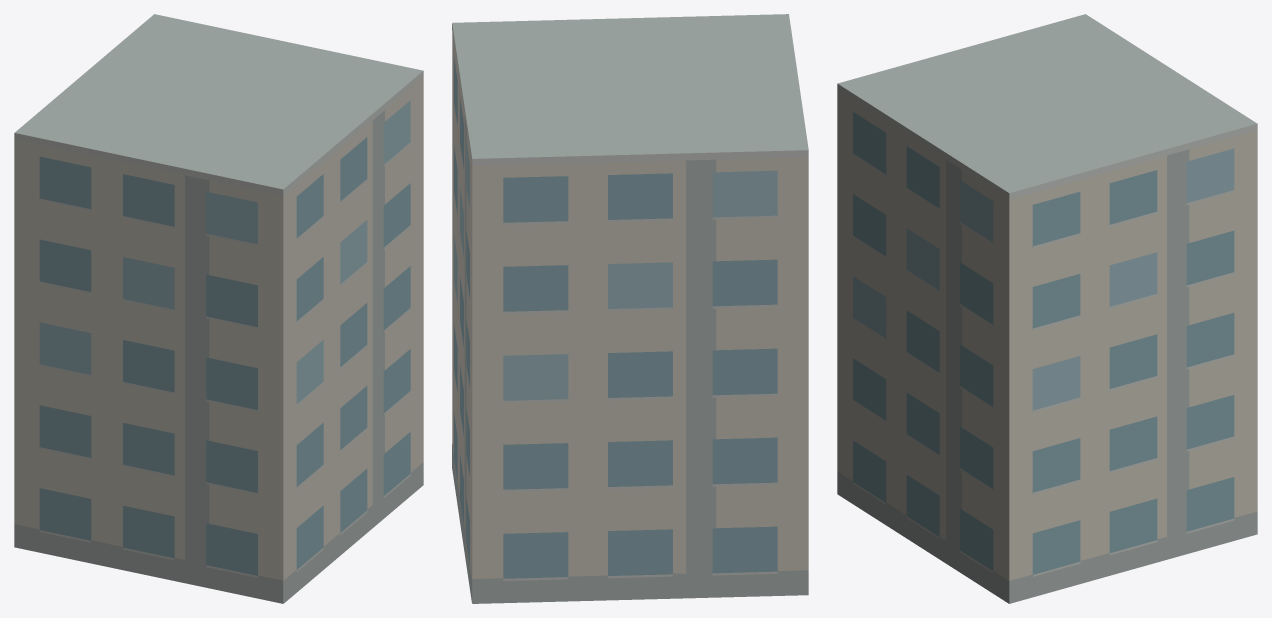
The model's file is residential-af64e3c6-0c84-4ee7-bb68-a069bfaa5516.glb.
3 renders of one model, left to right at view 1: azimuth 30°, elevation 25°; view 2: azimuth 150°, elevation 25°; view 3: azimuth 270°, elevation 25°, orthographic. The views are drawn at different scales.
Visible parts, largest first — view 1: residential-af64e3c6-0c84-4ee7-bb68-a069bfaa5516.tmp; view 2: residential-af64e3c6-0c84-4ee7-bb68-a069bfaa5516.tmp; view 3: residential-af64e3c6-0c84-4ee7-bb68-a069bfaa5516.tmp.
Boxes of the visible parts, bbox=[...] form: residential-af64e3c6-0c84-4ee7-bb68-a069bfaa5516.tmp: bbox=[14, 14, 423, 603]; residential-af64e3c6-0c84-4ee7-bb68-a069bfaa5516.tmp: bbox=[452, 14, 808, 603]; residential-af64e3c6-0c84-4ee7-bb68-a069bfaa5516.tmp: bbox=[837, 14, 1257, 603].
Size of the model in its own units: 14.23 by 15.2 by 14.1.
